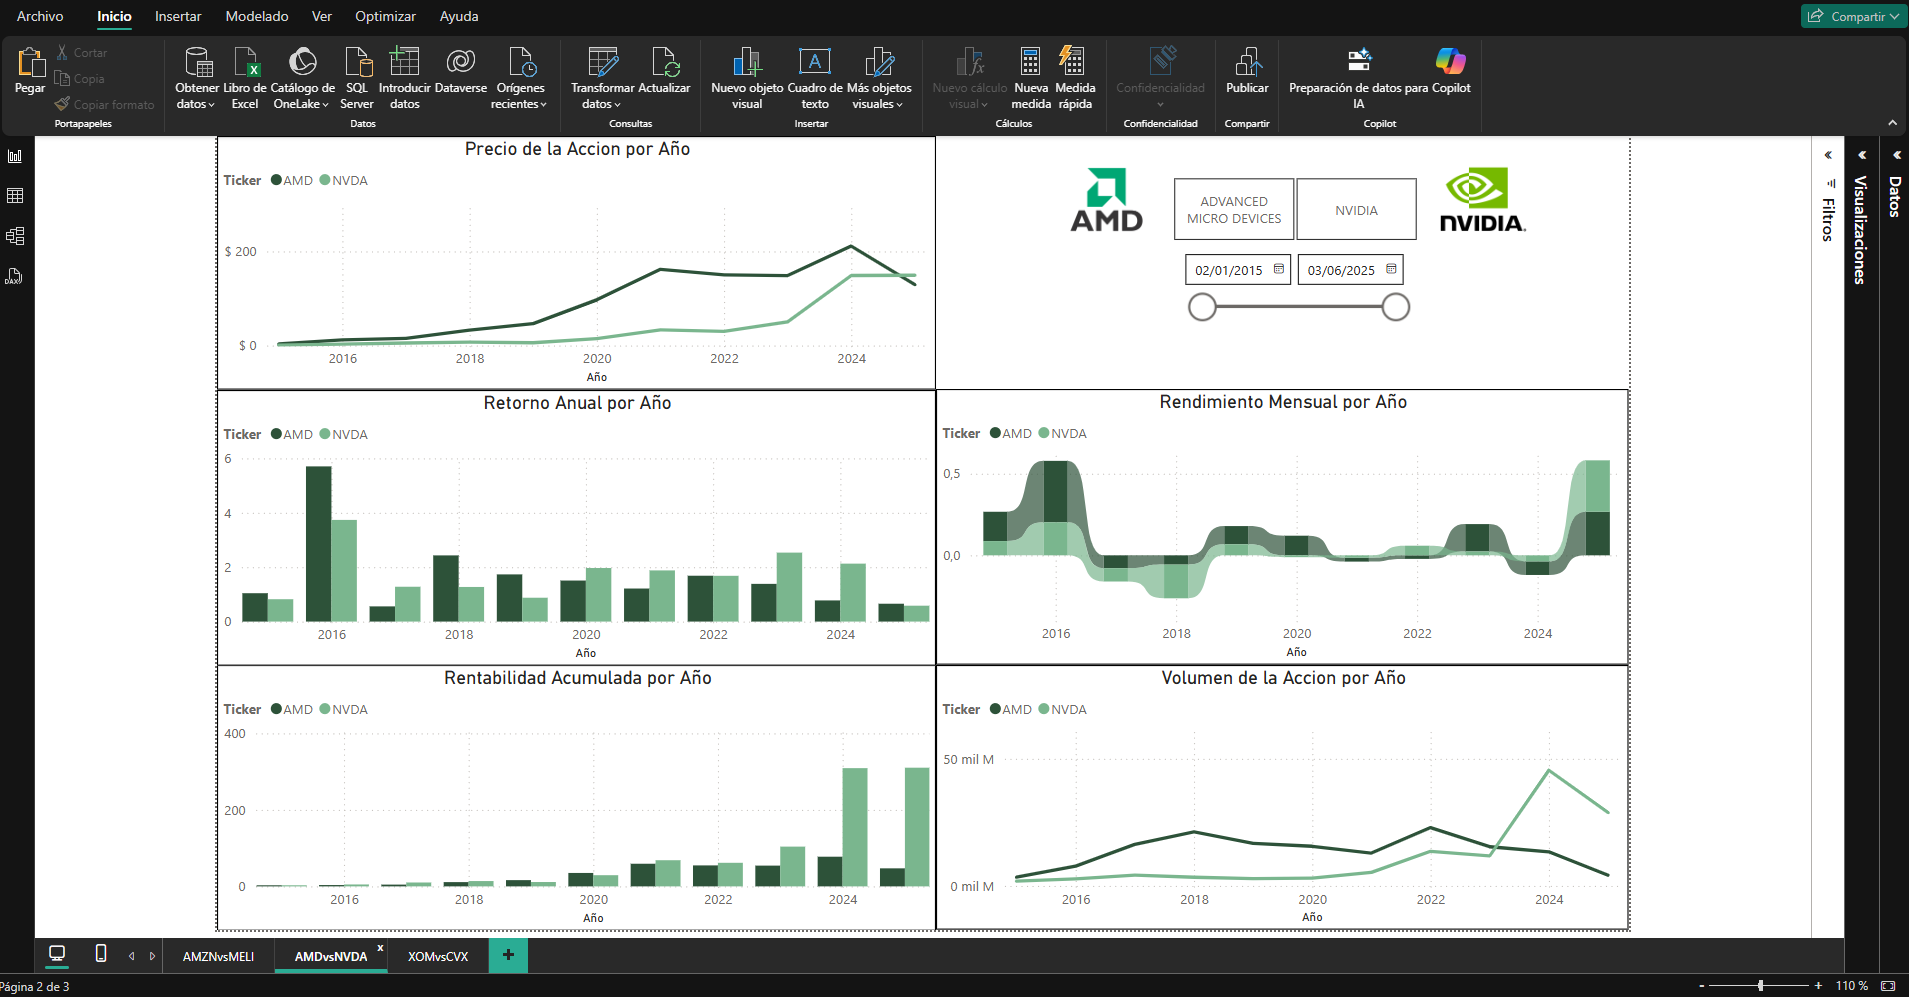

What the dashboard file says about the page in this screenshot:
{"tool":"powerbi","page":{"name":"AMDvsNVDA","canvas":[1280,720],"ordinal":1},"visuals":[{"type":"lineChart","title":"Precio de la Accion por Año","fields":{"Category":["precios.Fecha Jerarquía.Año","precios.Fecha Jerarquía.Trimestre","precios.Fecha Jerarquía.Mes"],"Y":["precios.Precio Cierre Diario por Ticker"],"Series":["acciones.Ticker"]},"box":[0,0,651.8,230],"z":0},{"type":"ribbonChart","title":"Rendimiento Mensual por Año","fields":{"Category":["precios.Fecha Jerarquía.Año"],"Series":["acciones.Ticker"],"Y":["acciones.Rendimiento Mensual"]},"box":[652,229.8,628,250],"z":1000},{"type":"clusteredColumnChart","title":"Rentabilidad Acumulada por Año","fields":{"Category":["precios.Fecha Jerarquía.Año","precios.Fecha Jerarquía.Trimestre","precios.Fecha Jerarquía.Mes"],"Y":["precios.RentabilidadAcumulada"],"Series":["acciones.Ticker"]},"box":[0,479.7,652.4,240.7],"z":2000},{"type":"slicer","fields":{"Values":["acciones.Empresa"]},"box":[847,16.3,260,100],"z":4000},{"type":"clusteredColumnChart","title":"Retorno Anual por Año","fields":{"Category":["precios.Fecha Jerarquía.Año","precios.Fecha Jerarquía.Trimestre","precios.Fecha Jerarquía.Mes"],"Y":["precios.RetornoAnual"],"Series":["acciones.Ticker"]},"box":[0,230,652,250],"z":5000},{"type":"slicer","fields":{"Values":["precios.Fecha"]},"box":[865.1,97,225,85],"z":6000},{"type":"image","box":[748.1,8.2,117,98.8],"z":7000},{"type":"image","box":[1090,0,117.9,115.2],"z":8000},{"type":"lineChart","title":"Volumen de la Accion por Año","fields":{"Category":["precios.Fecha Jerarquía.Año","precios.Fecha Jerarquía.Trimestre","precios.Fecha Jerarquía.Mes"],"Y":["precios.VolumenTotal"],"Series":["acciones.Ticker"]},"box":[652,479.7,628.4,240.3],"z":9000}]}

Visuals, with their boxes on the page's 1280x720 design canvas (x1, y1, x2, y2). These are canvas units, not pixel positions in the 1909x997 screenshot, which may show the page scaled, cropped or inside an application window:
"Precio de la Accion por Año" lineChart: (0, 0, 652, 230)
"Rendimiento Mensual por Año" ribbonChart: (652, 230, 1280, 480)
"Rentabilidad Acumulada por Año" clusteredColumnChart: (0, 480, 652, 720)
slicer - acciones.Empresa: (847, 16, 1107, 116)
"Retorno Anual por Año" clusteredColumnChart: (0, 230, 652, 480)
slicer - precios.Fecha: (865, 97, 1090, 182)
image: (748, 8, 865, 107)
image: (1090, 0, 1208, 115)
"Volumen de la Accion por Año" lineChart: (652, 480, 1280, 720)
